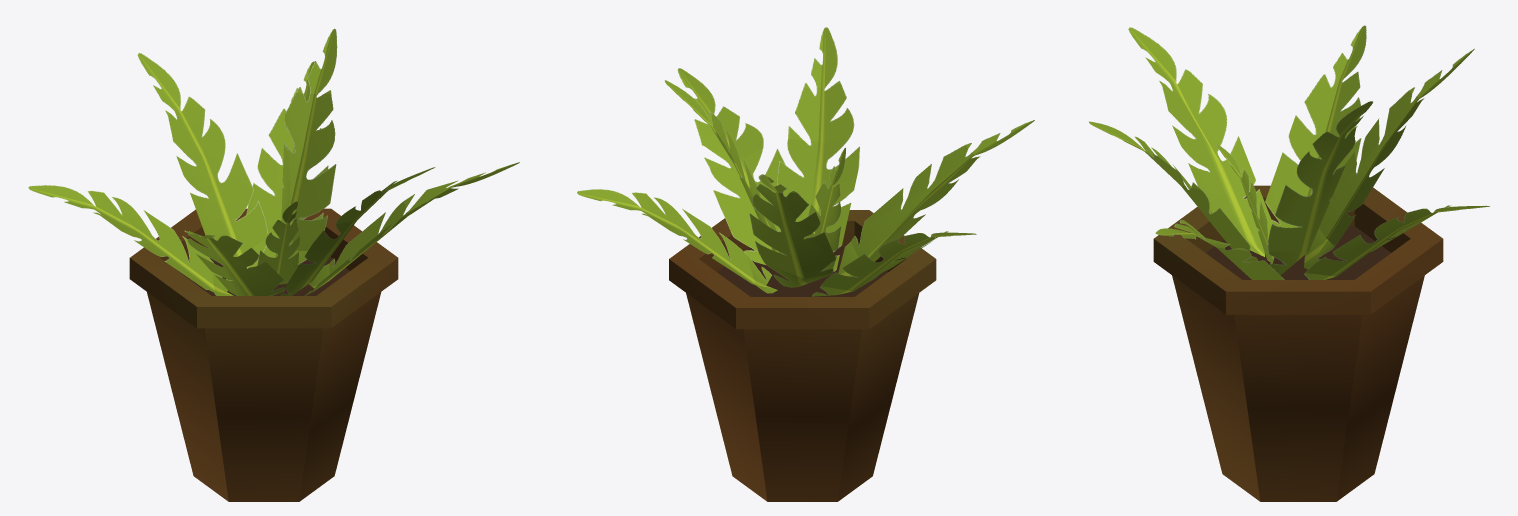
Rendered from SM_PlantPot_1(Fix).fbx.
The picture shows the model from 3 angles, left to right: view 1: azimuth 30°, elevation 25°; view 2: azimuth 150°, elevation 25°; view 3: azimuth 270°, elevation 25°; orthographic projection. The views are drawn at different scales.
Parts seen in each view (by area): view 1: Plantpot_Mash; view 2: Plantpot_Mash; view 3: Plantpot_Mash.
Part boxes in pixels (x1,y1,x2,y2): Plantpot_Mash: [28, 28, 519, 501]; Plantpot_Mash: [577, 27, 1034, 501]; Plantpot_Mash: [1089, 25, 1489, 501].
Size of the model in its own units: 0.3753 by 0.347 by 0.3055.
